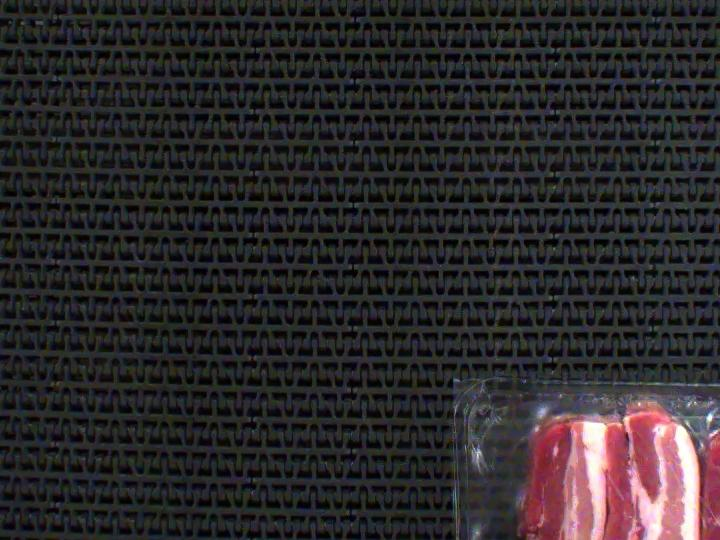unsealed: (460, 393, 720, 540)
